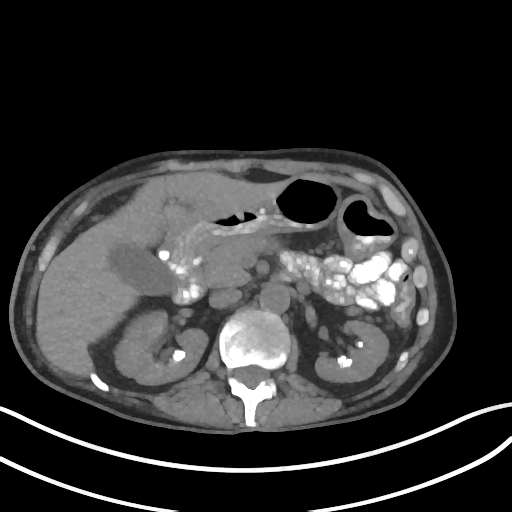Lesion: (170, 349, 185, 362)
